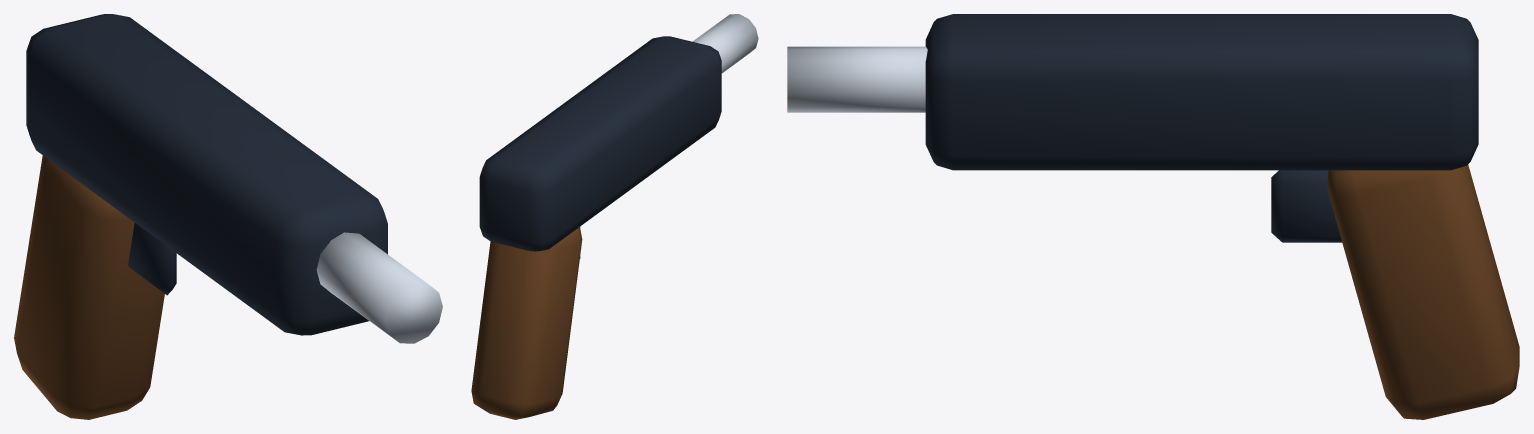
The model's file is pistol.glb.
3 views of the same model, side by side, from view 1: azimuth 30°, elevation 25°; view 2: azimuth 150°, elevation 25°; view 3: azimuth 270°, elevation 25° (orthographic). The views are drawn at different scales.
Visible parts, largest first — view 1: Slide, Grip, Barrel, Trigger; view 2: Slide, Grip, Barrel; view 3: Slide, Grip, Barrel, Trigger.
Part boxes in pixels (x1,y1,x2,y2): Slide: [26, 14, 387, 335]; Grip: [14, 155, 164, 419]; Barrel: [316, 232, 442, 343]; Trigger: [128, 223, 176, 295]; Slide: [479, 36, 721, 251]; Grip: [471, 227, 582, 419]; Barrel: [692, 14, 758, 73]; Slide: [925, 14, 1478, 170]; Grip: [1327, 164, 1519, 419]; Barrel: [787, 46, 927, 112]; Trigger: [1271, 170, 1341, 242].
Size of the model in its own units: 0.045 by 0.1515 by 0.2649.
